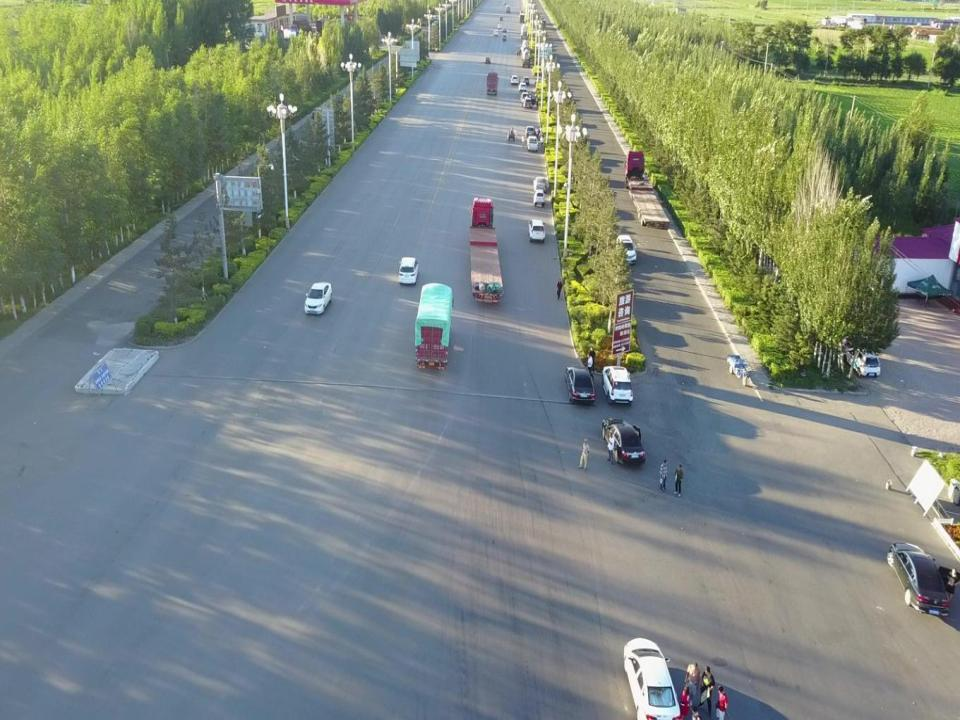car: (888, 540, 960, 618), (621, 637, 682, 720), (602, 418, 645, 466), (603, 366, 633, 405), (845, 346, 880, 378), (565, 366, 594, 402), (305, 282, 332, 317), (615, 236, 637, 264), (399, 257, 417, 284), (528, 219, 546, 243), (533, 176, 546, 192), (527, 134, 538, 151), (522, 96, 533, 107), (520, 91, 529, 103), (312, 106, 320, 118), (525, 127, 534, 135), (518, 83, 527, 91), (433, 15, 440, 25), (511, 74, 517, 84), (430, 20, 438, 27), (485, 56, 491, 64), (524, 77, 529, 86), (493, 30, 498, 37), (502, 34, 507, 40), (498, 23, 502, 28), (519, 10, 524, 14), (503, 26, 506, 32), (503, 1, 506, 5)
truck: (468, 198, 504, 304), (414, 283, 454, 370), (624, 150, 668, 229), (486, 72, 499, 96), (522, 47, 530, 66), (521, 24, 527, 38), (522, 38, 529, 50), (520, 12, 525, 24), (506, 4, 510, 13)
van: (499, 15, 503, 22)
